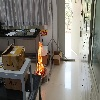fire: (36, 41, 44, 76)
